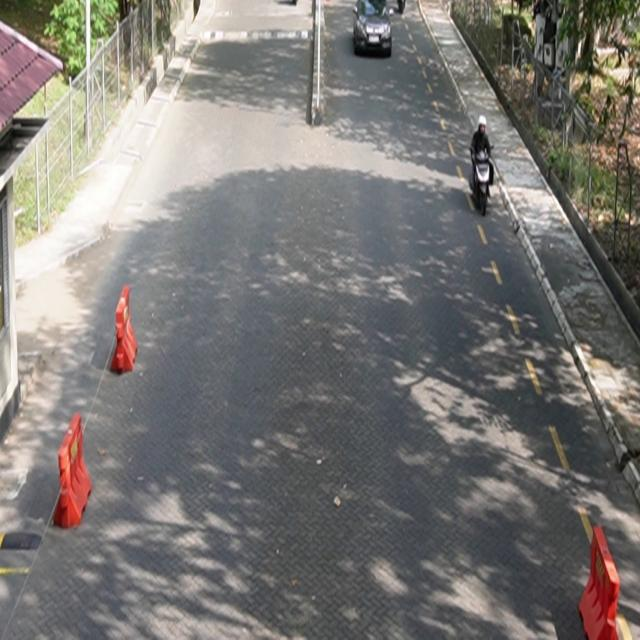car: (353, 1, 393, 57)
